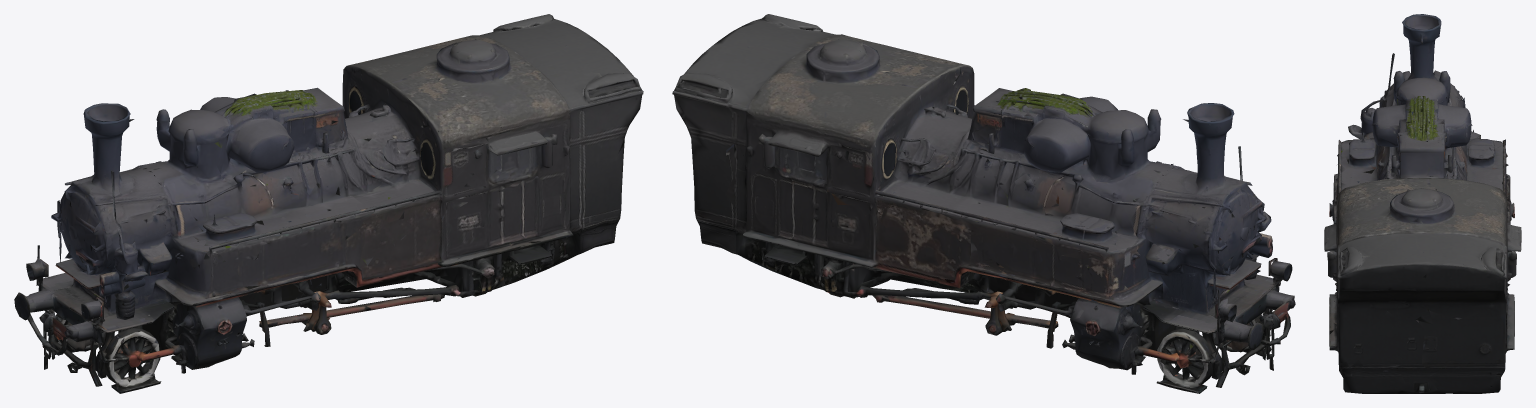
Rendered from vlak_model (1).gltf.
The picture shows the model from 3 angles, left to right: view 1: azimuth 30°, elevation 25°; view 2: azimuth 150°, elevation 25°; view 3: azimuth 270°, elevation 25°; orthographic projection. The views are drawn at different scales.
Parts seen in each view (by area): view 1: tripo_node_affb4a75-a6c7-4d2b-af6b-2b7b4bb10597; view 2: tripo_node_affb4a75-a6c7-4d2b-af6b-2b7b4bb10597; view 3: tripo_node_affb4a75-a6c7-4d2b-af6b-2b7b4bb10597.
Boxes of the visible parts, box(x1,y1,x2,y2) form: tripo_node_affb4a75-a6c7-4d2b-af6b-2b7b4bb10597: box(14, 14, 643, 393); tripo_node_affb4a75-a6c7-4d2b-af6b-2b7b4bb10597: box(672, 14, 1295, 393); tripo_node_affb4a75-a6c7-4d2b-af6b-2b7b4bb10597: box(1324, 14, 1521, 393).
Size of the model in its own units: 58.1 by 25.44 by 21.01.
Materials: 1 (1 with a texture image).
